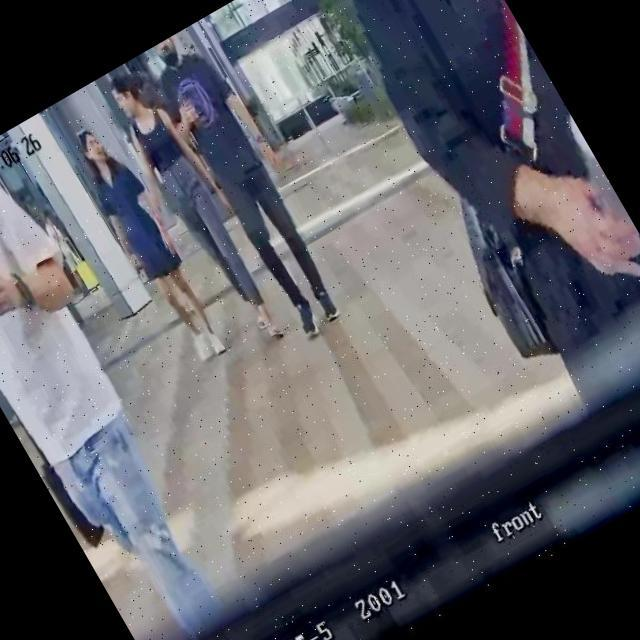person: (294, 0, 640, 375), (0, 139, 238, 626), (134, 22, 363, 346), (90, 59, 302, 360), (62, 115, 238, 370), (35, 206, 97, 298)
